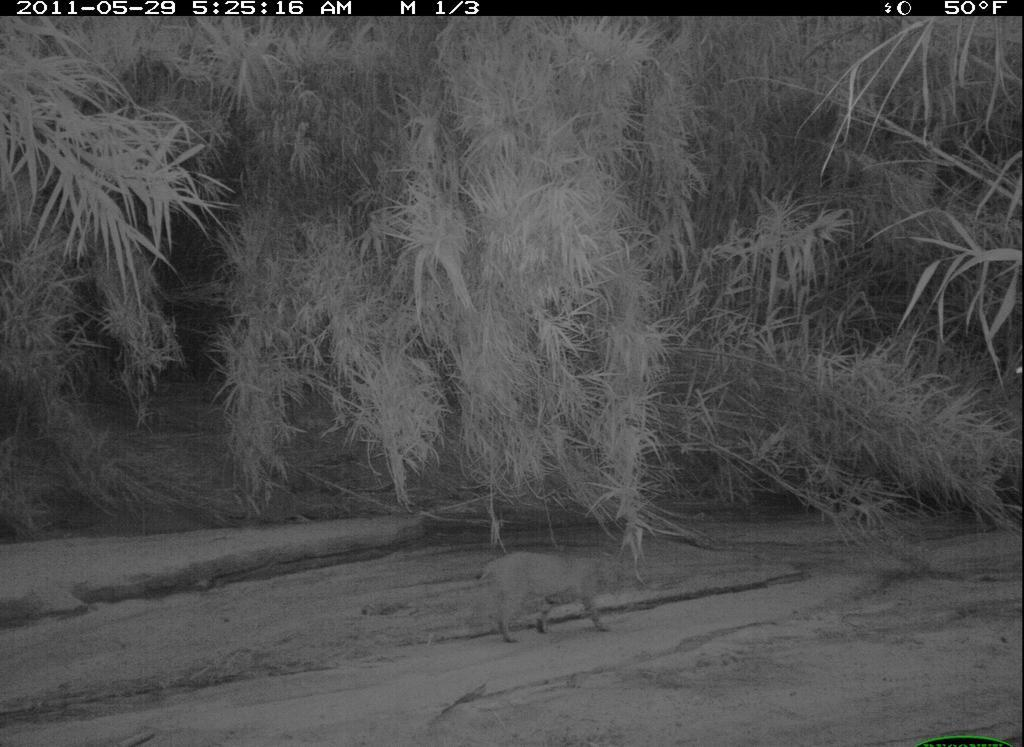bobcat: (456, 534, 626, 652)
